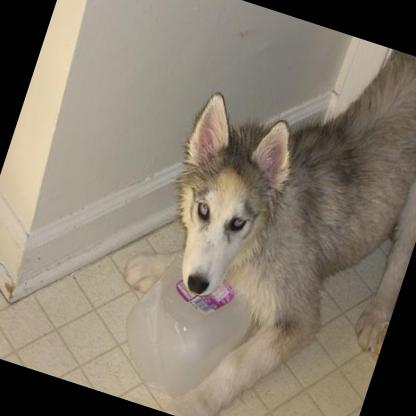Siberian_husky: (104, 0, 416, 416)
